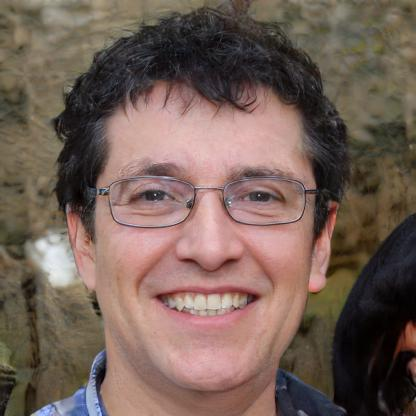glasses: (96, 169, 316, 234)
